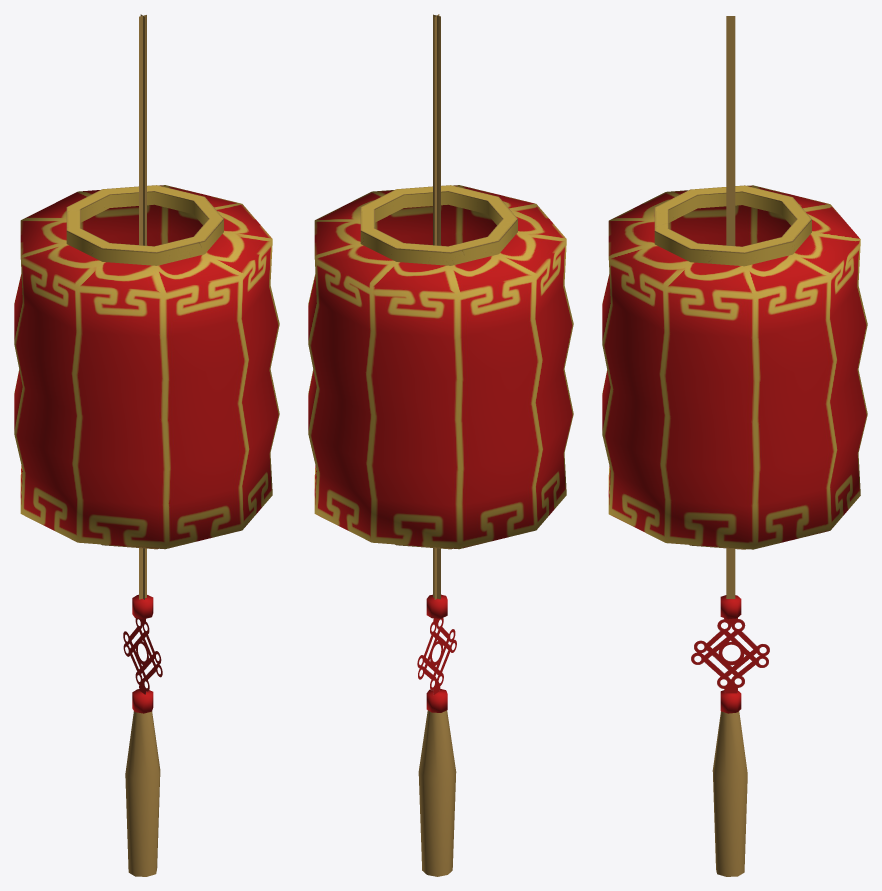
File: lantern05.fbx
3 renders of one model, left to right at view 1: azimuth 30°, elevation 25°; view 2: azimuth 150°, elevation 25°; view 3: azimuth 270°, elevation 25°, orthographic.
Parts seen in each view (by area): view 1: lantern05; view 2: lantern05; view 3: lantern05.
Boxes of the visible parts, x1,y1,x2,y2 form: lantern05: (14,14,279,876); lantern05: (308,14,573,876); lantern05: (602,16,867,876).
Size of the model in its own units: 45.3 by 158 by 44.61.
